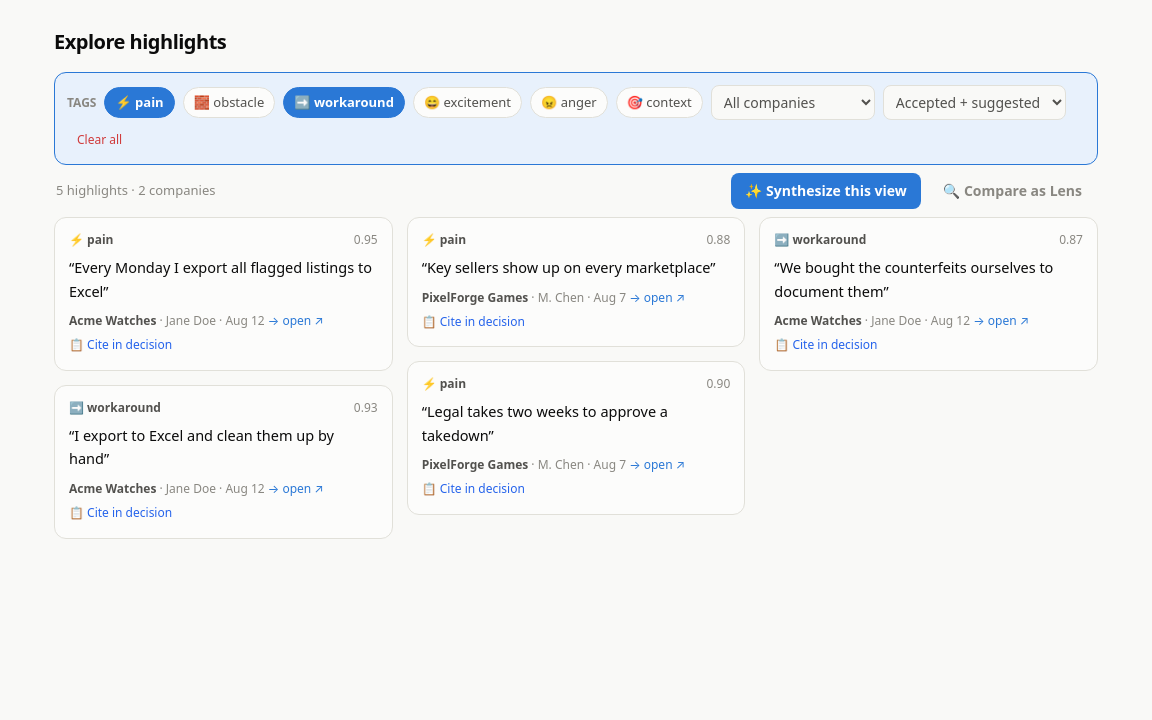
UX #2: Explore synthesis progress panel › cancel stops synthesis progress
Click the button "✨ Synthesize this view".
click(826, 191)  # box top-left (731, 173), bottom-right (921, 209)
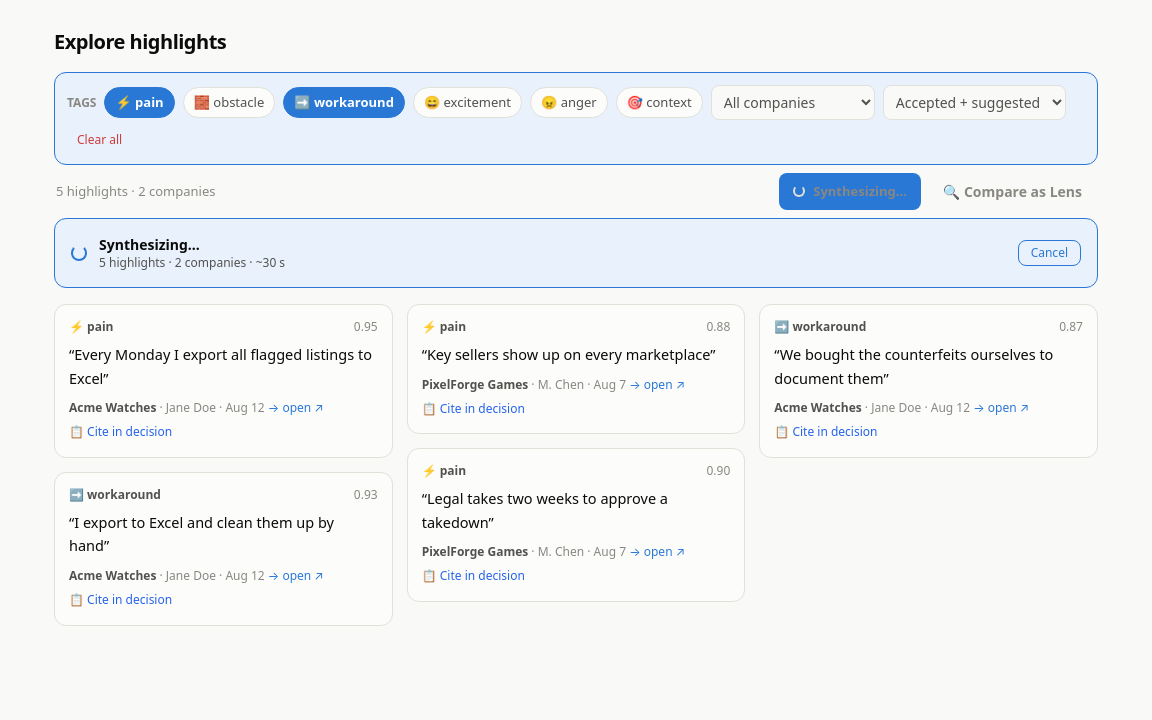
Expected: the button "Cancel" is shown
Click the button "Cancel".
click(1049, 253)  # box top-left (1018, 240), bottom-right (1081, 266)
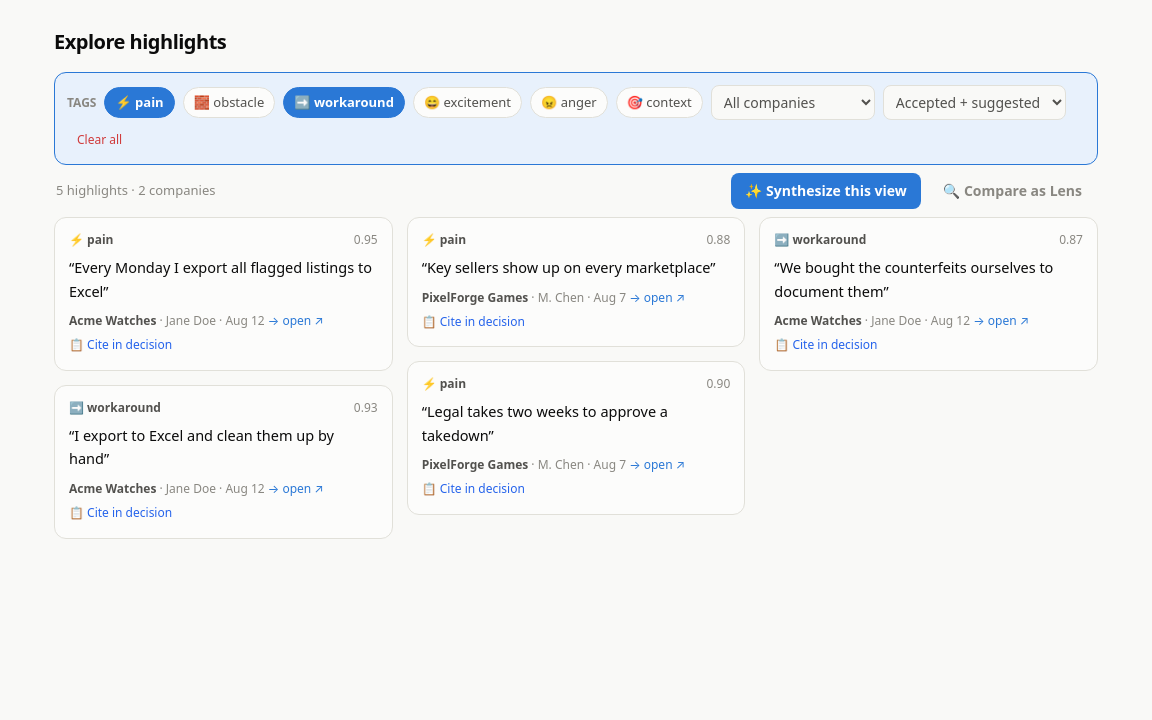
Expected: the button "Cancel" is gone
